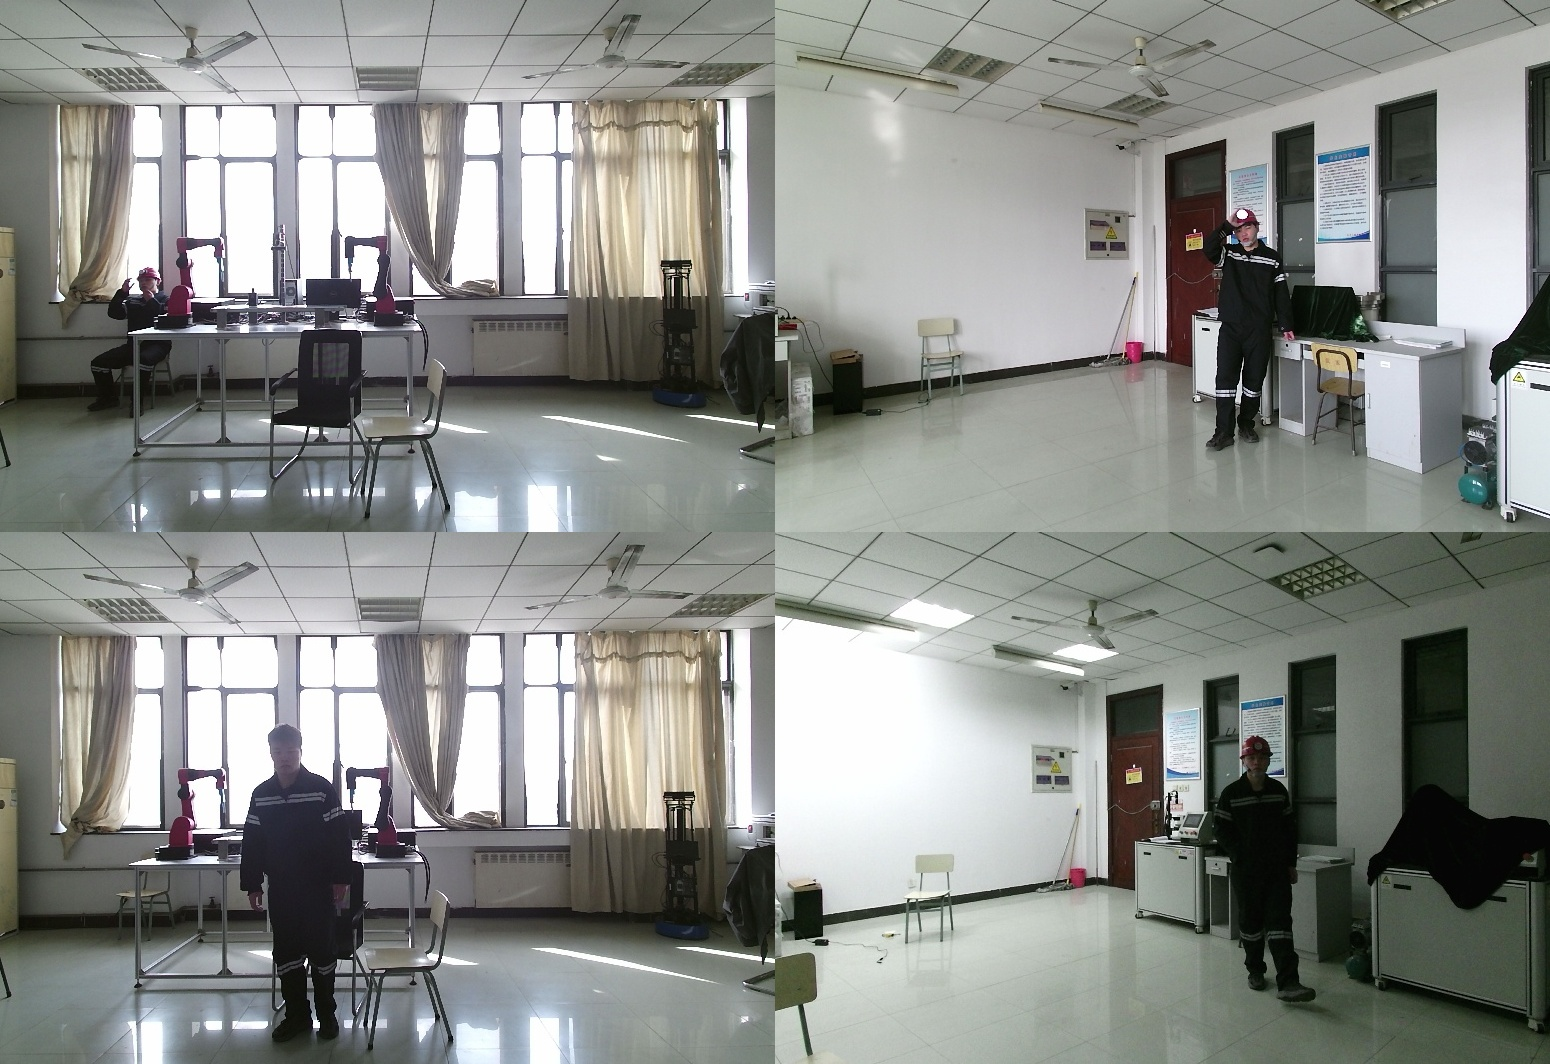person: (242, 723, 361, 1039), (1209, 735, 1320, 997), (1207, 209, 1303, 447), (83, 266, 172, 416)
